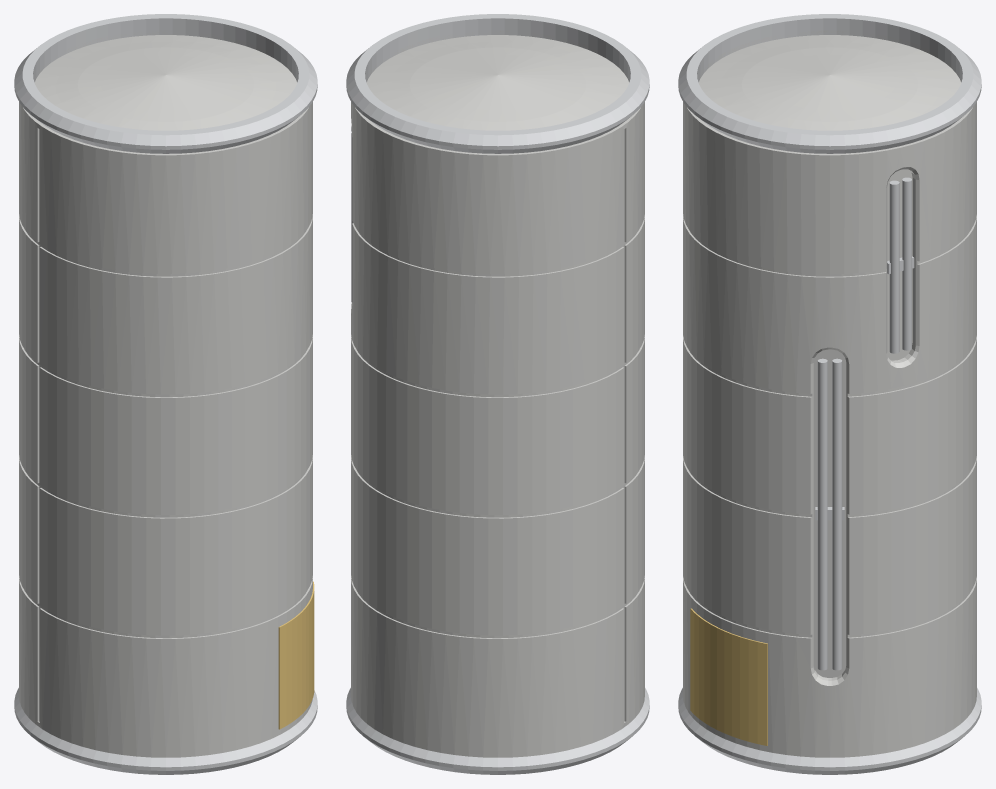
The model's file is ax_tank_01_modern_methalox_s_long.glb.
3 renders of one model, left to right at view 1: azimuth 30°, elevation 25°; view 2: azimuth 150°, elevation 25°; view 3: azimuth 270°, elevation 25°, orthographic.
Visible parts, largest first — view 1: tank_barrel, end_rings, dome_caps, mli_patch; view 2: tank_barrel, end_rings, dome_caps; view 3: tank_barrel, end_rings, dome_caps, raceway_lines, mli_patch.
Part boxes in pixels (bbox=[...]): tank_barrel: bbox=[19, 102, 312, 757]; end_rings: bbox=[14, 14, 317, 774]; dome_caps: bbox=[34, 30, 297, 130]; mli_patch: bbox=[278, 581, 314, 729]; tank_barrel: bbox=[351, 102, 644, 757]; end_rings: bbox=[346, 14, 649, 774]; dome_caps: bbox=[366, 30, 629, 130]; tank_barrel: bbox=[683, 102, 976, 757]; end_rings: bbox=[678, 14, 981, 774]; dome_caps: bbox=[698, 30, 961, 130]; raceway_lines: bbox=[815, 177, 914, 670]; mli_patch: bbox=[690, 608, 767, 745].
Size of the model in its own units: 1.29 by 3 by 1.29.
